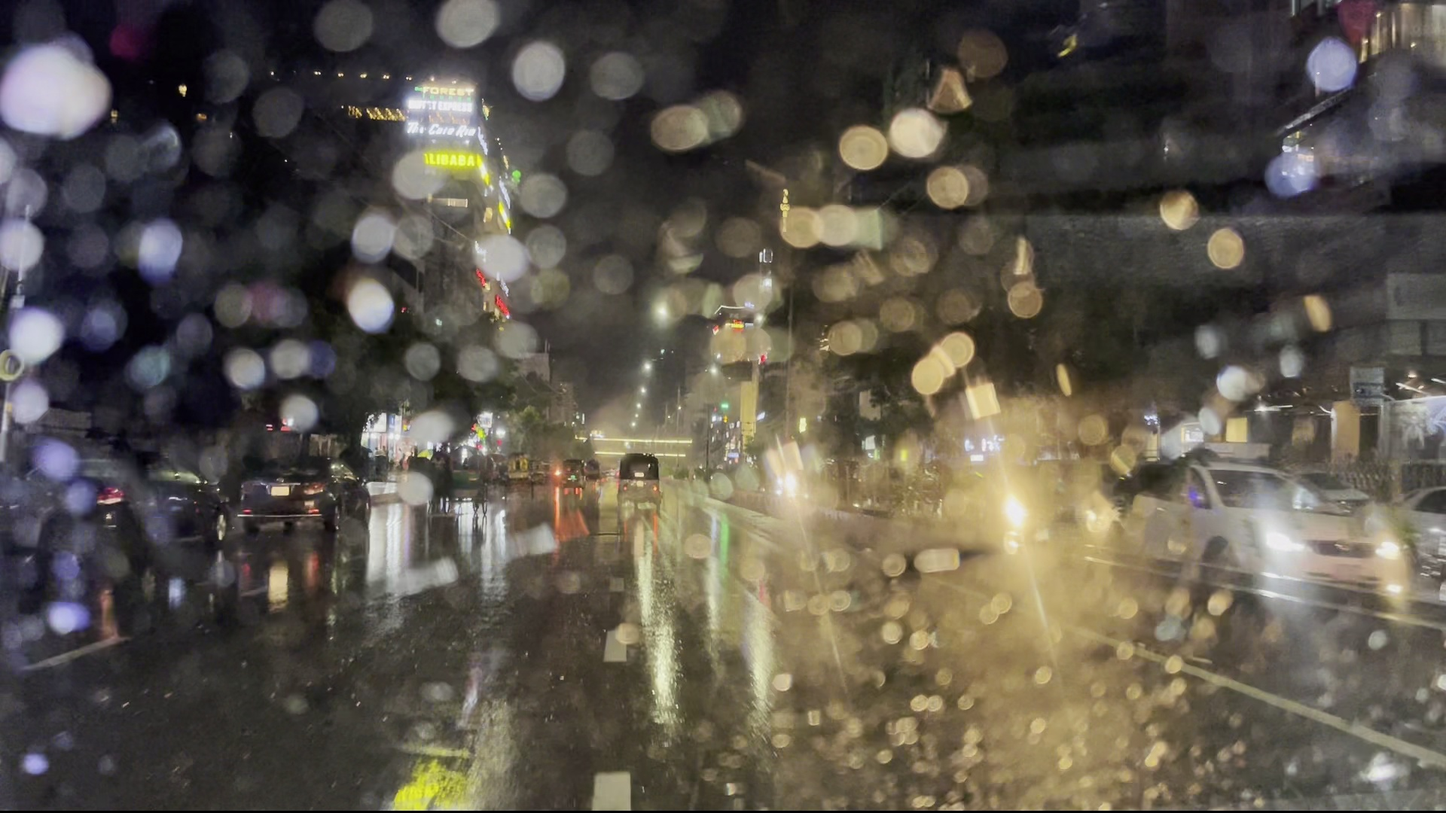car: (1084, 446, 1417, 620), (8, 442, 233, 559), (233, 449, 380, 533)
